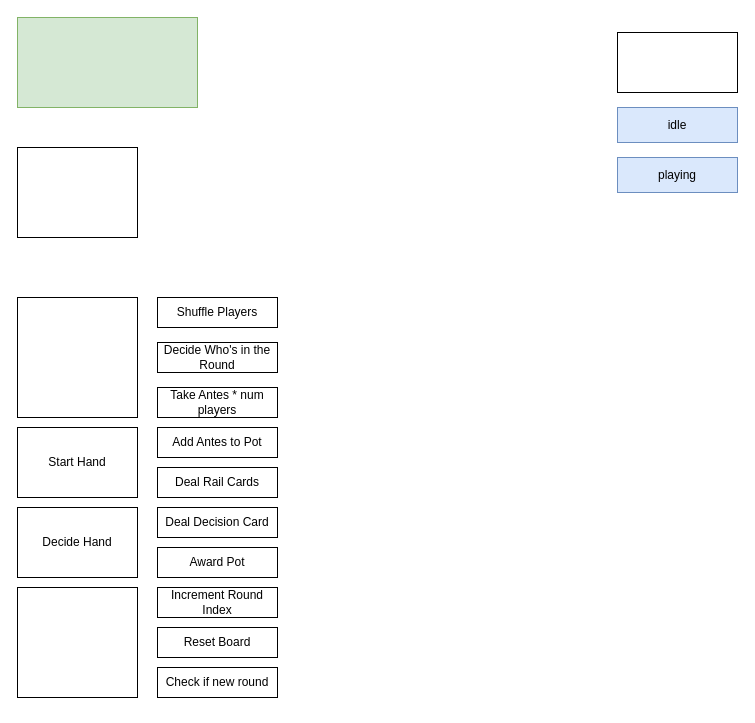
Some shapes in this 755 by 723 pixel diagram are drawn without their labels. The shapes that lost their labels are listed below. From the top down, each one's centre as x and y in pixels, then its label:
point (107, 62): Create Game
point (677, 62): Game States
point (77, 192): Join Table
point (77, 357): Start Round
point (77, 642): End Hand
